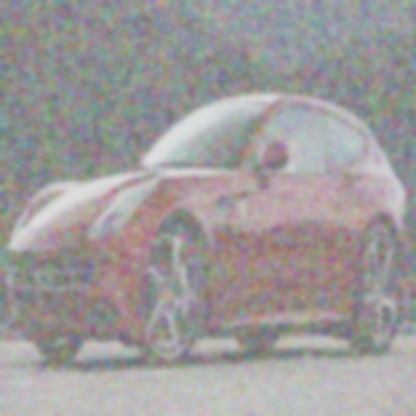Vehicle: (6, 92, 412, 366)
